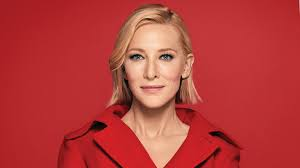person: (110, 4, 195, 112)
